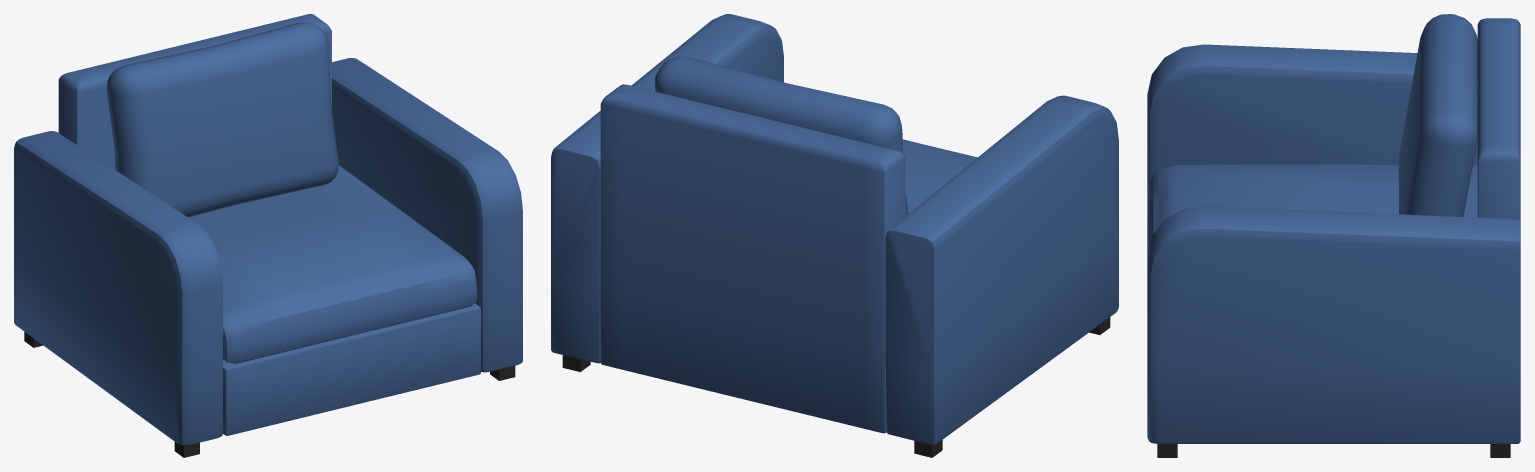
Rendered from Single_Sofa.fbx.
3 renders of one model, left to right at view 1: azimuth 30°, elevation 25°; view 2: azimuth 150°, elevation 25°; view 3: azimuth 270°, elevation 25°, orthographic. The views are drawn at different scales.
Visible parts, largest first — view 1: Single_Sofa; view 2: Single_Sofa; view 3: Single_Sofa.
Boxes of the visible parts, x1=… form: Single_Sofa: x1=14, y1=14, x2=522, y2=457; Single_Sofa: x1=551, y1=14, x2=1118, y2=457; Single_Sofa: x1=1147, y1=14, x2=1520, y2=457.
Size of the model in its own units: 175 by 134 by 148.
